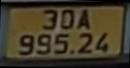.: (69, 50, 75, 55)
0: (60, 9, 74, 31)
2: (78, 33, 93, 54)
3: (42, 9, 58, 30)
4: (95, 33, 109, 54)
5: (54, 33, 69, 55)
9: (18, 34, 34, 55), (37, 33, 52, 55)
A: (77, 9, 92, 30)
